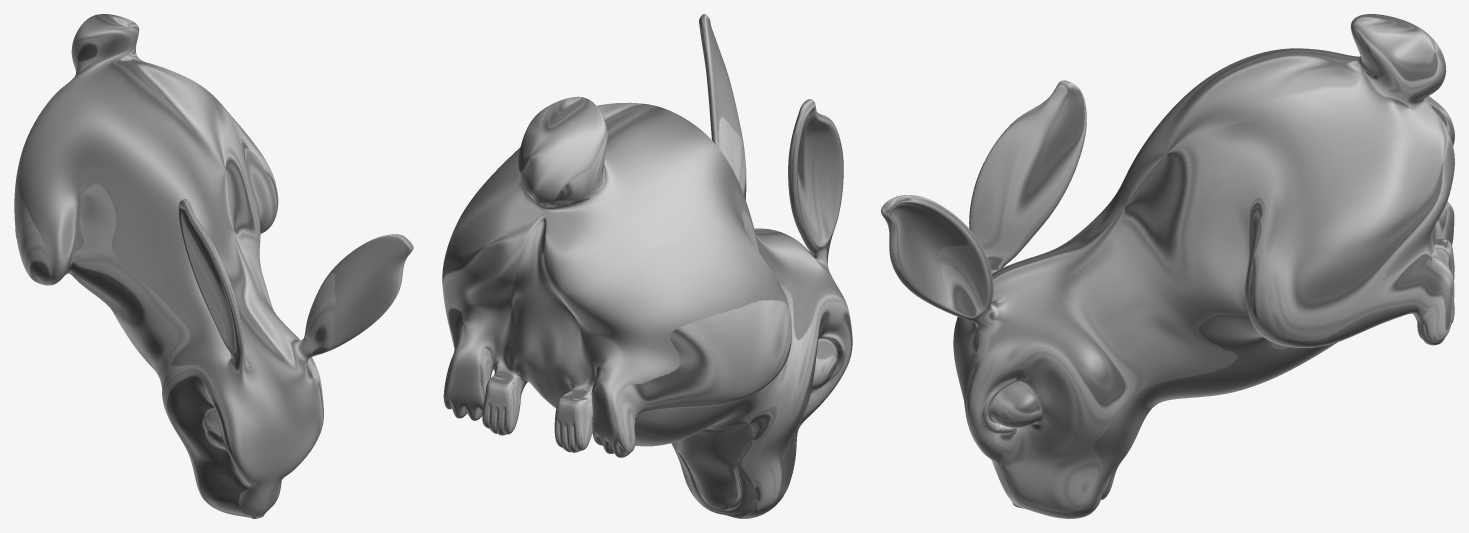
Rendered from 10037_Rabbit_v1_L3.obj.
3 views of the same model, side by side, from view 1: azimuth 30°, elevation 25°; view 2: azimuth 150°, elevation 25°; view 3: azimuth 270°, elevation 25° (orthographic). The views are drawn at different scales.
Visible parts, largest first — view 1: 10037_Rabbit_v1; view 2: 10037_Rabbit_v1; view 3: 10037_Rabbit_v1.
Part boxes in pixels (box(x1,y1,x2,y2)): 10037_Rabbit_v1: box(14, 14, 413, 518); 10037_Rabbit_v1: box(442, 14, 852, 518); 10037_Rabbit_v1: box(881, 14, 1454, 518).
Bounding box in the file's own units: 24.68 × 38.18 × 40.19.
Materials: 1 (1 with a texture image).
